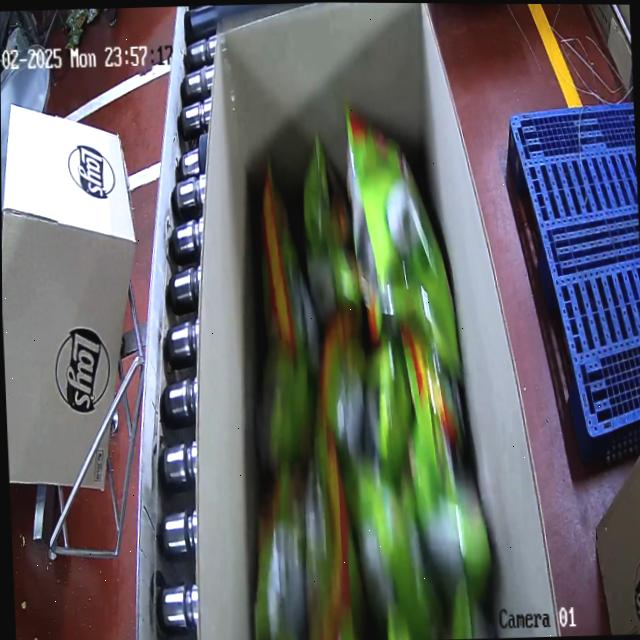YOGURT_HERB: (241, 113, 503, 640)
